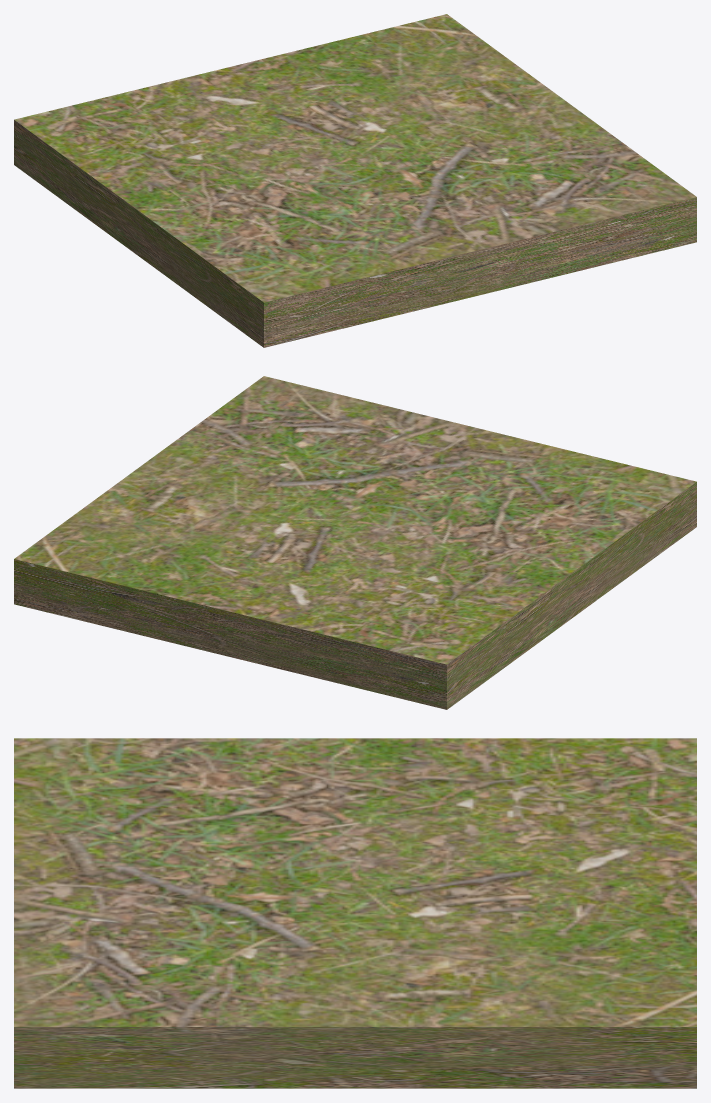
Rendered from Build.glb.
3 views of the same model, one above another, from view 1: azimuth 30°, elevation 25°; view 2: azimuth 150°, elevation 25°; view 3: azimuth 270°, elevation 25° (orthographic). The views are drawn at different scales.
Parts seen in each view (by area): view 1: Build; view 2: Build; view 3: Build.
Boxes of the visible parts, x1,y1,x2,y2 form: Build: (14,14,696,347); Build: (14,376,696,709); Build: (14,738,696,1088).
Size of the model in its own units: 1 by 0.1 by 1.
Materials: 1 (1 with a texture image).
